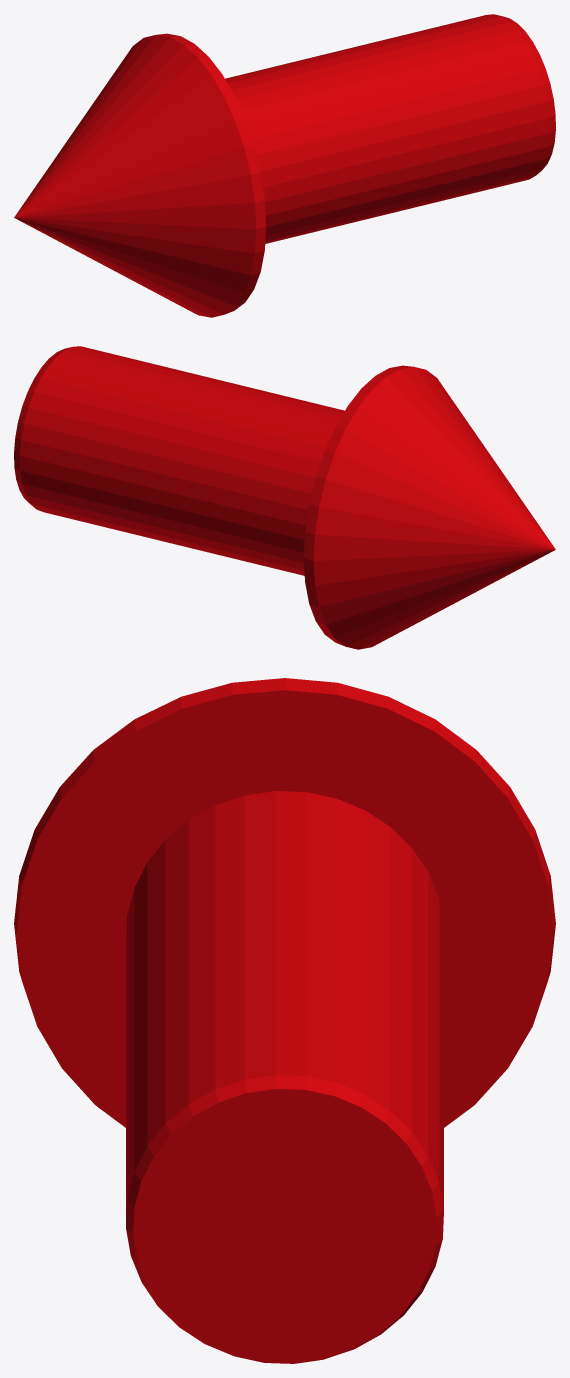
File: arrow.fbx
3 views of the same model, one above another, from view 1: azimuth 30°, elevation 25°; view 2: azimuth 150°, elevation 25°; view 3: azimuth 270°, elevation 25° (orthographic). The views are drawn at different scales.
Visible parts, largest first — view 1: Cylinder; view 2: Cylinder; view 3: Cylinder.
Part boxes in pixels (<box>): Cylinder: <box>14,14,555,317</box>; Cylinder: <box>14,346,555,649</box>; Cylinder: <box>14,678,555,1363</box>.
Size of the model in its own units: 80 by 40 by 40.
